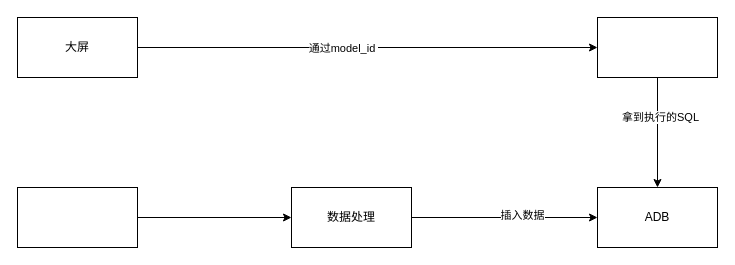
Image size: 735x265. Some labels were removed from this diagram. Here are the shapes that lost their labels. From the top down, the centre of each, then its label:
At point (657, 47): "DRDS".
At point (77, 217): "数据中台".
